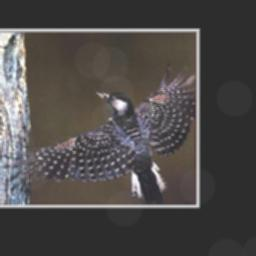Woodpecker: (8, 67, 196, 202)
